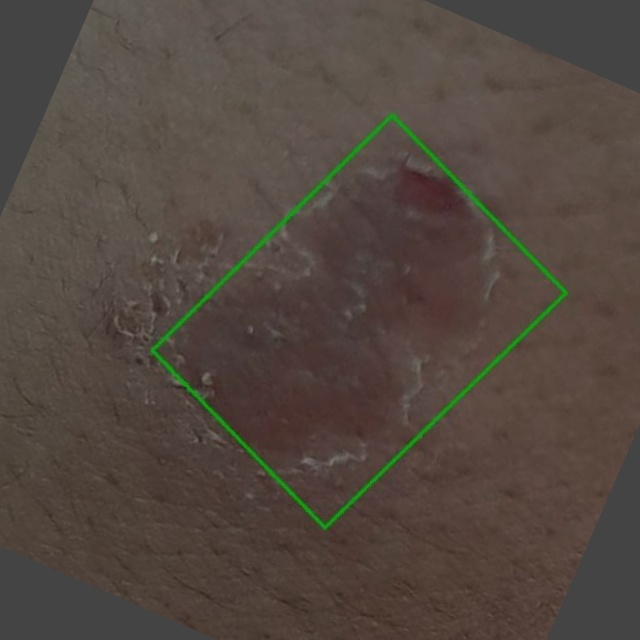Tinea Corporis: (152, 116, 565, 528)
